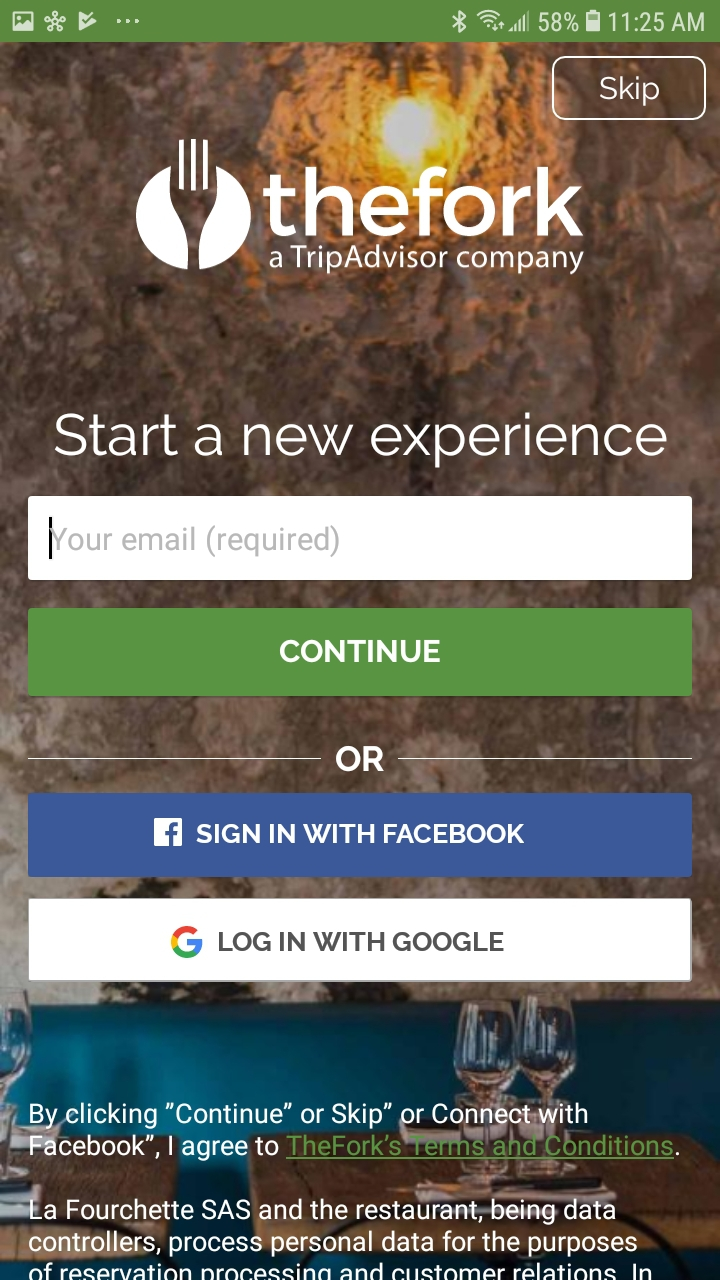BackgroundImage: (1, 43, 720, 1280)
EditText: (28, 497, 692, 581)
Image: (264, 167, 584, 275), (137, 140, 252, 270)
Text: (29, 1197, 651, 1280), (30, 1102, 679, 1162), (55, 414, 666, 468), (50, 525, 340, 558), (336, 746, 385, 772)
TextButton: (28, 609, 692, 697), (28, 793, 692, 879), (29, 898, 692, 982), (551, 56, 706, 121)
UpperTaskBar: (1, 2, 720, 43)
